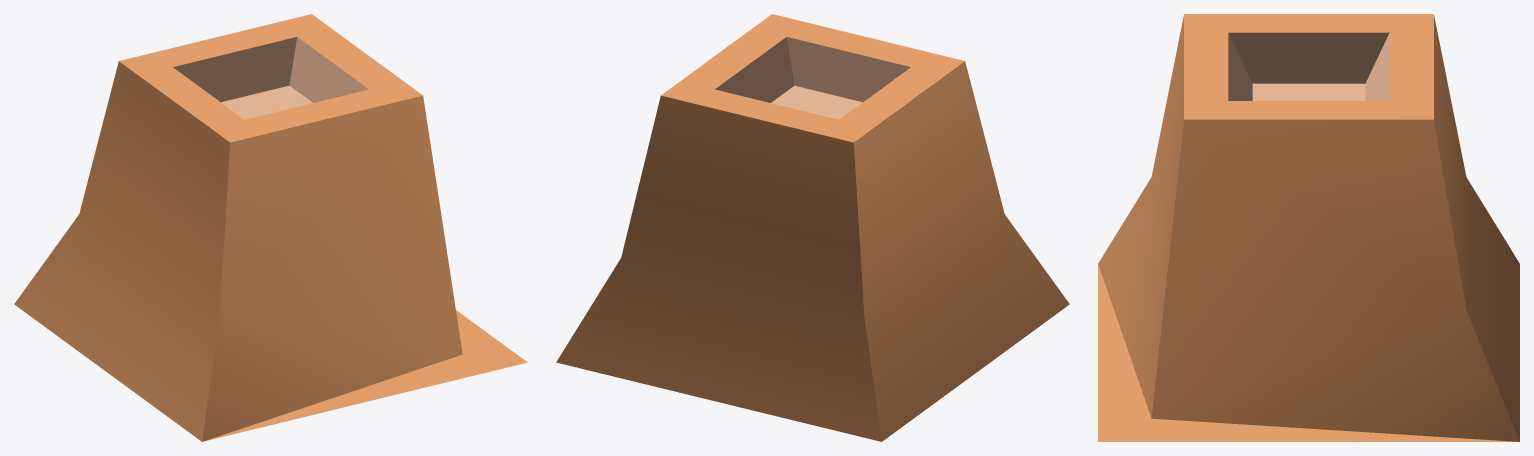
The model's file is treeStump.obj.
3 renders of one model, left to right at view 1: azimuth 30°, elevation 25°; view 2: azimuth 150°, elevation 25°; view 3: azimuth 270°, elevation 25°, orthographic. The views are drawn at different scales.
Visible parts, largest first — view 1: treeStump; view 2: treeStump; view 3: treeStump.
Part boxes in pixels (x1,y1,x2,y2): treeStump: [14, 14, 527, 441]; treeStump: [556, 14, 1069, 441]; treeStump: [1098, 14, 1519, 441].
Size of the model in its own units: 2.81 by 2.11 by 2.81.
